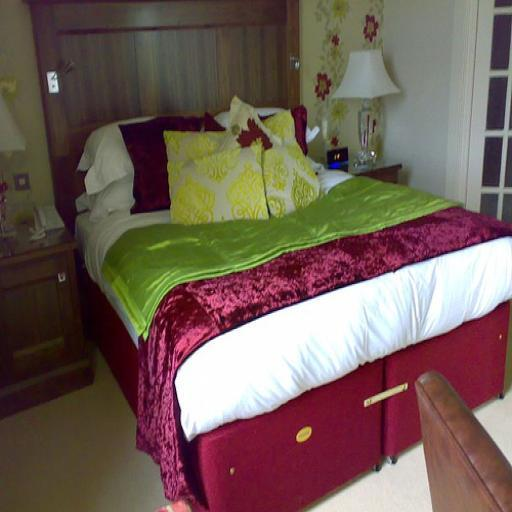bed: (62, 80, 512, 456)
